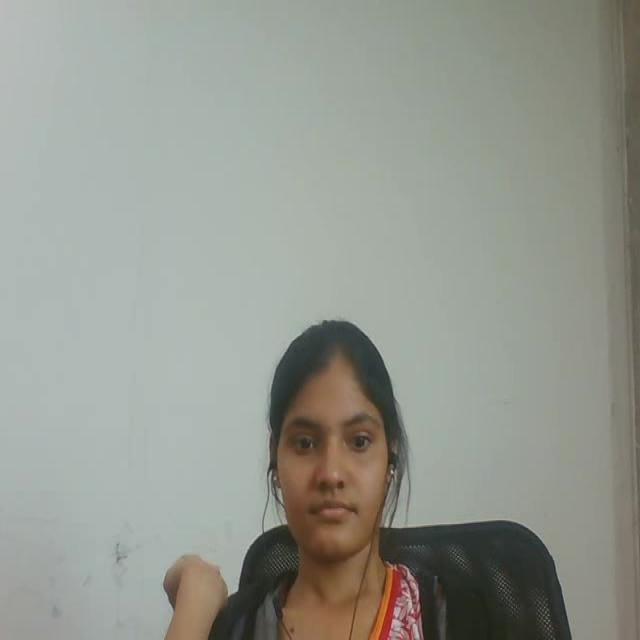Engaged: (239, 306, 416, 578)
